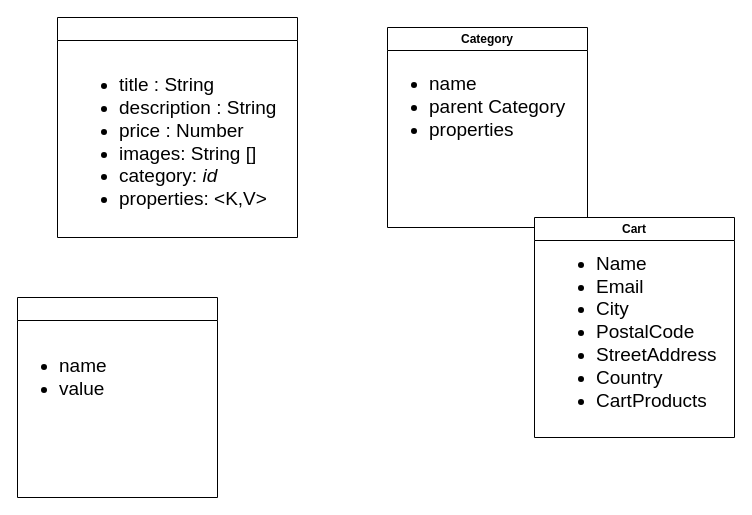
This 752x515 diagram has some shape labels left out. Here are the shapes that lost their labels. From the top down, the box of each, then its label:
(56, 16, 298, 238): Product
(16, 296, 218, 498): Properties
